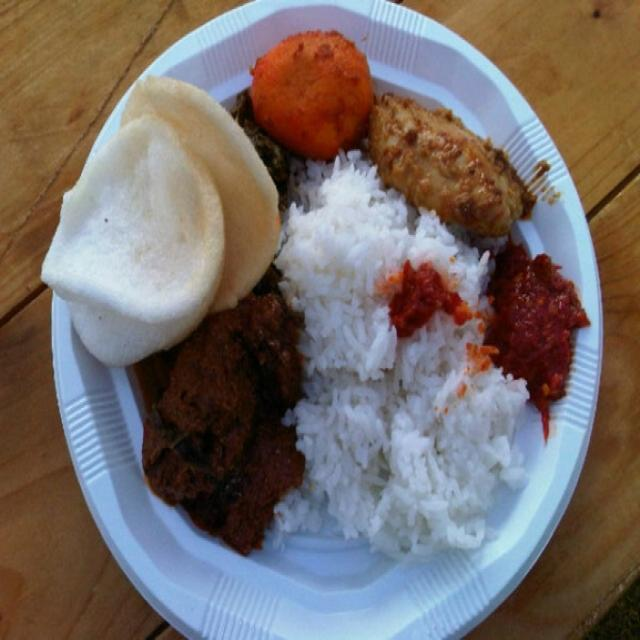米饭主食: (26, 13, 611, 634)
